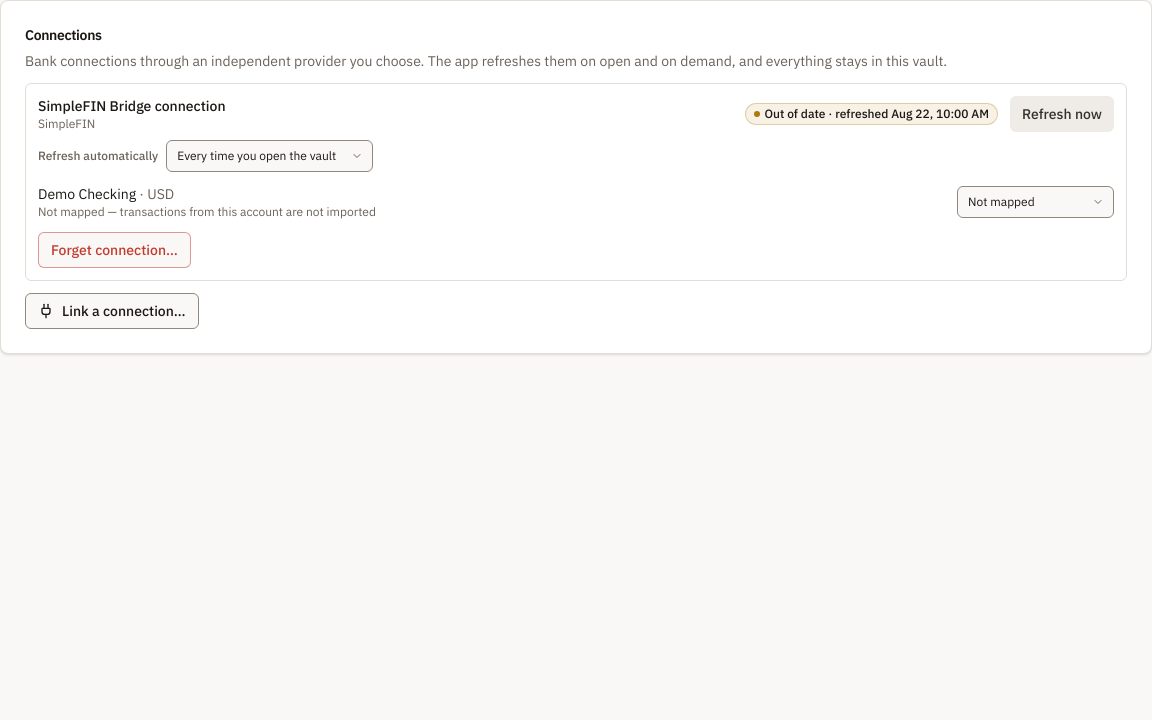
Test: ConnectionsCard › choosing another account changes nothing and returns to the picker
The width and height of the screenshot is (1152, 720).
Select "Checking" in the dropdown named "Account for Demo Checking" at (1036, 202), box x1=957 y1=186 x2=1114 y2=218
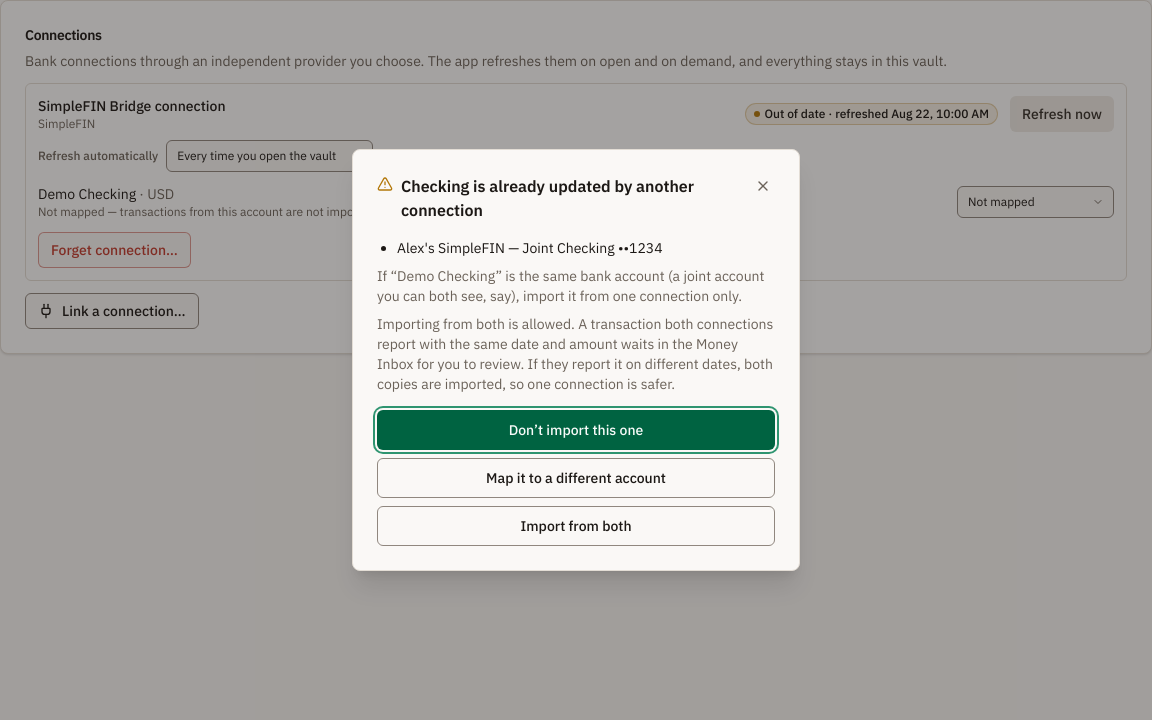
Click the button "Map it to a different account" at (576, 478), box x1=377 y1=458 x2=775 y2=498
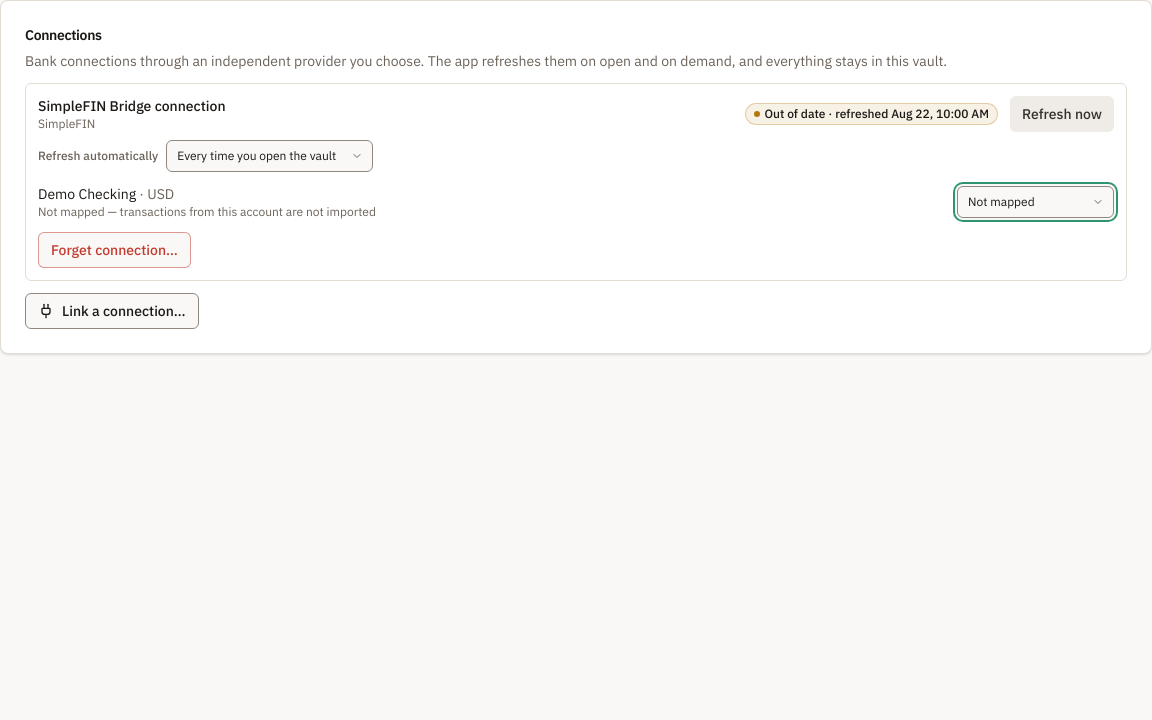
Check: the dialog is gone
